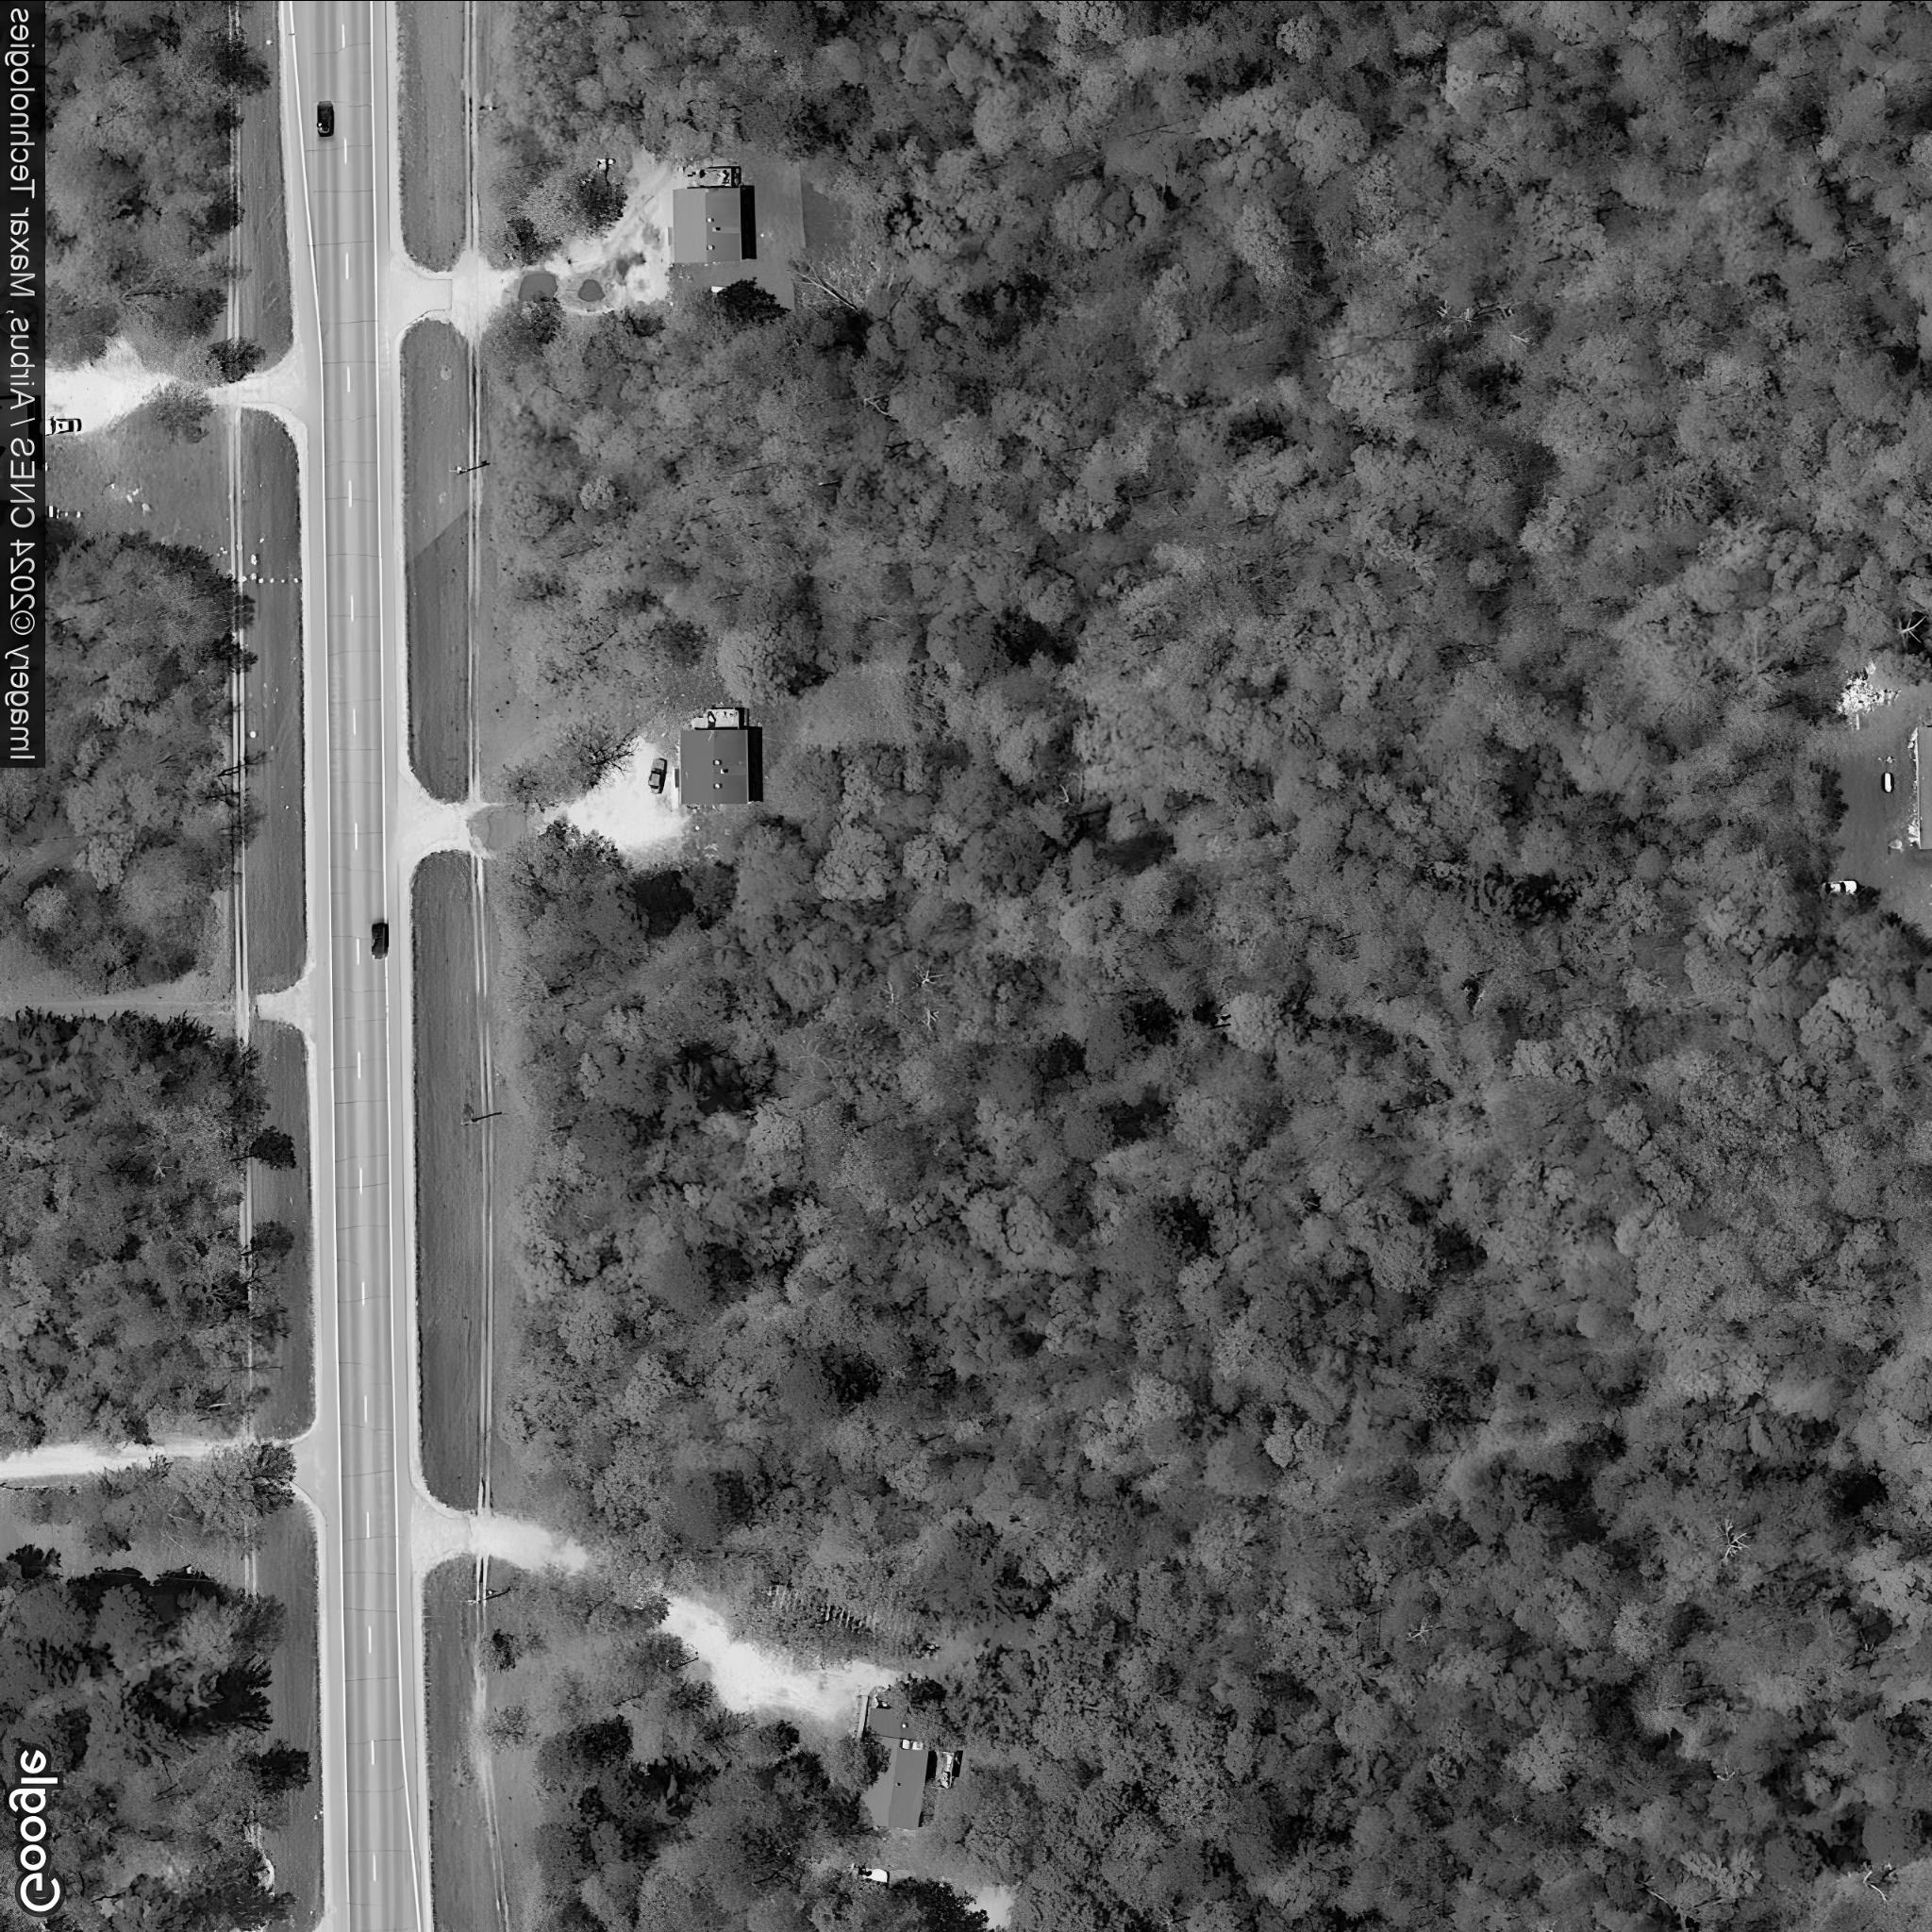House: (853, 1706, 934, 1831), (669, 186, 743, 265), (678, 725, 750, 807), (1913, 724, 1932, 849)
Propane: (1879, 768, 1897, 793), (708, 283, 731, 294), (46, 502, 57, 522)
